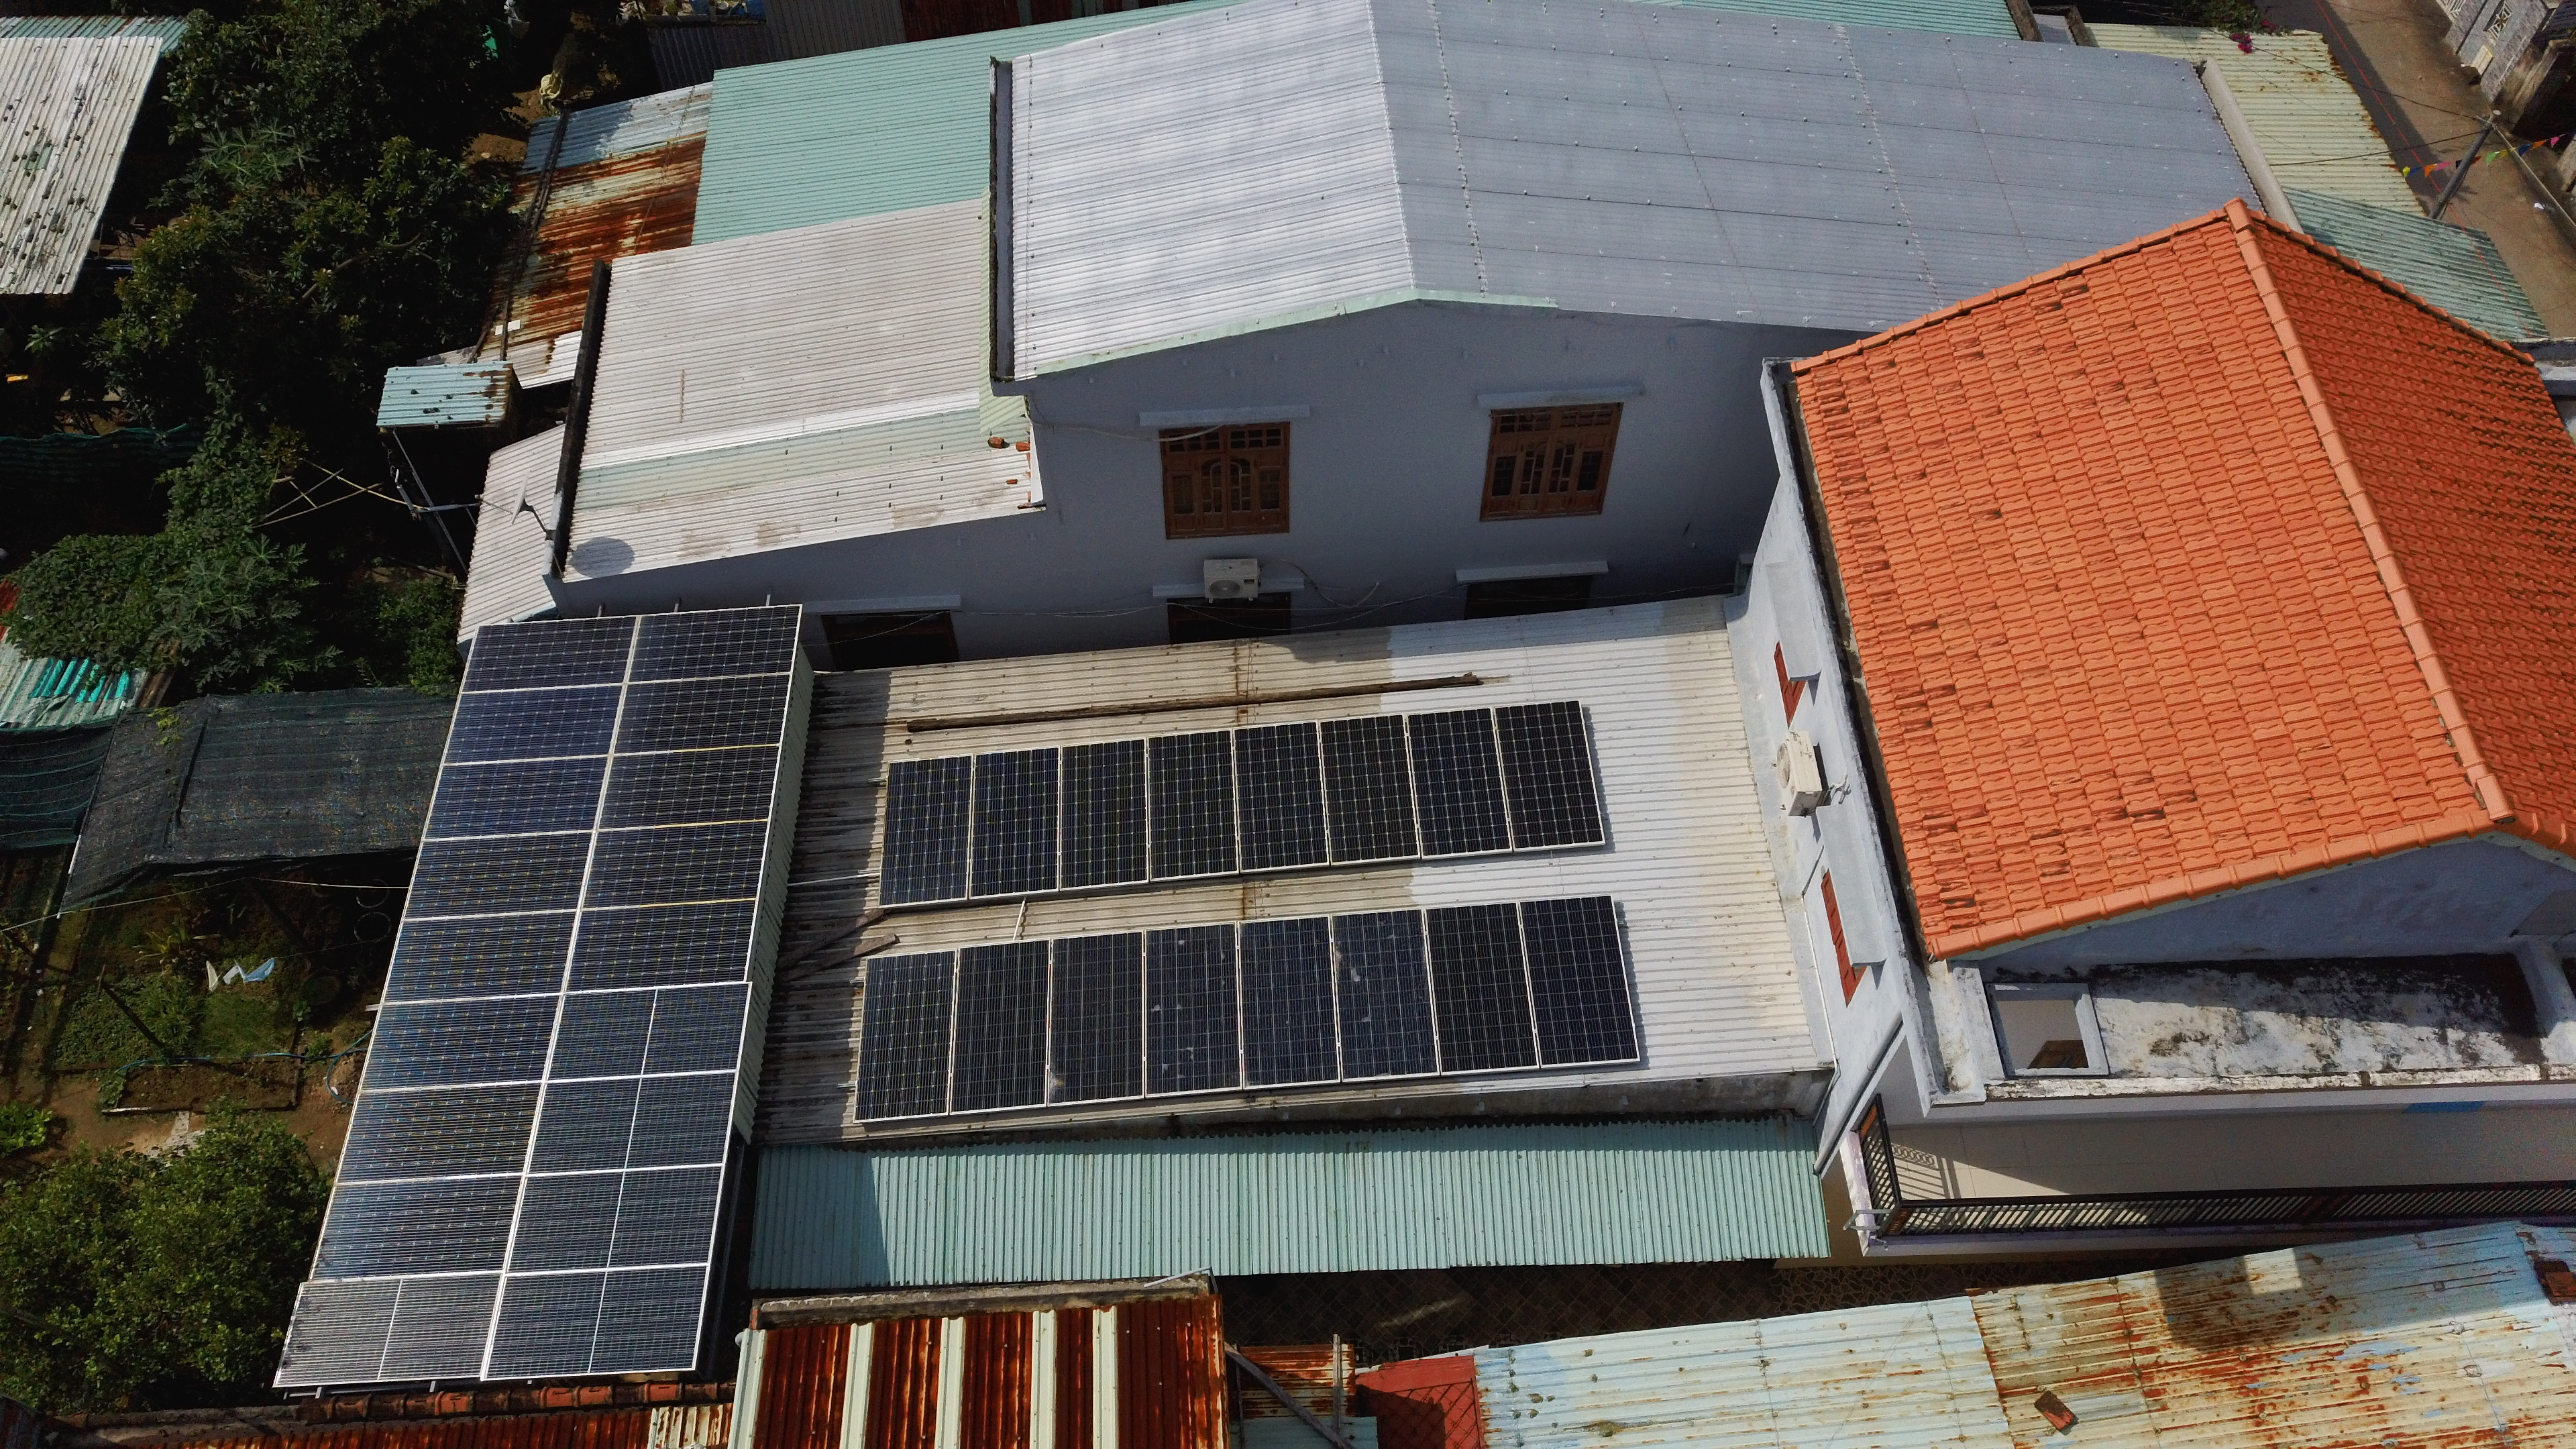solar: (483, 1266, 709, 1377), (274, 1275, 503, 1384), (505, 1163, 720, 1273), (306, 1175, 523, 1281), (523, 1074, 736, 1175), (1517, 896, 1641, 1069), (336, 1081, 543, 1183), (1421, 903, 1541, 1074), (358, 995, 563, 1093), (545, 983, 751, 1079), (1332, 908, 1440, 1080), (383, 910, 578, 1005), (562, 899, 761, 991), (853, 947, 957, 1122), (949, 941, 1053, 1116), (1048, 930, 1152, 1105), (1143, 919, 1247, 1094), (1238, 916, 1342, 1091), (579, 819, 772, 908), (1491, 701, 1606, 849), (1490, 700, 1605, 848), (404, 830, 593, 918), (595, 743, 780, 831), (1318, 713, 1425, 864), (1406, 706, 1513, 857), (425, 755, 613, 839), (1234, 720, 1332, 877), (874, 753, 973, 908), (967, 747, 1065, 902), (1057, 737, 1155, 893), (1142, 728, 1240, 883), (611, 672, 793, 754), (456, 615, 641, 694), (441, 685, 626, 763), (625, 603, 800, 684)
